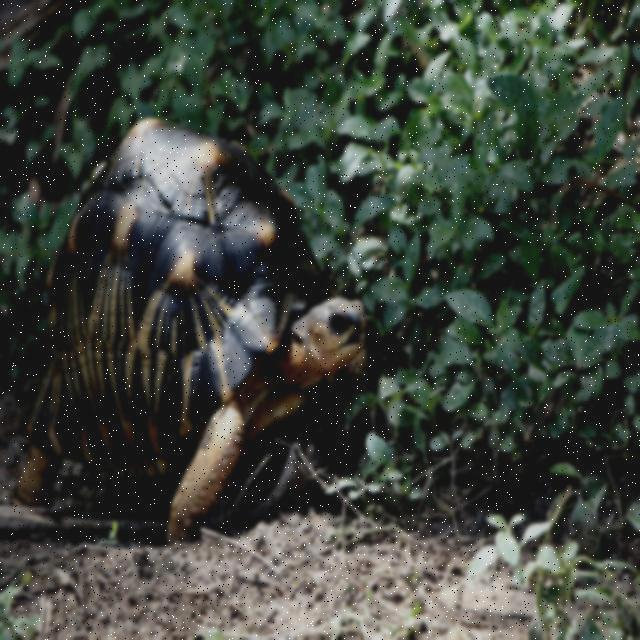tortoise: (3, 105, 409, 552)
